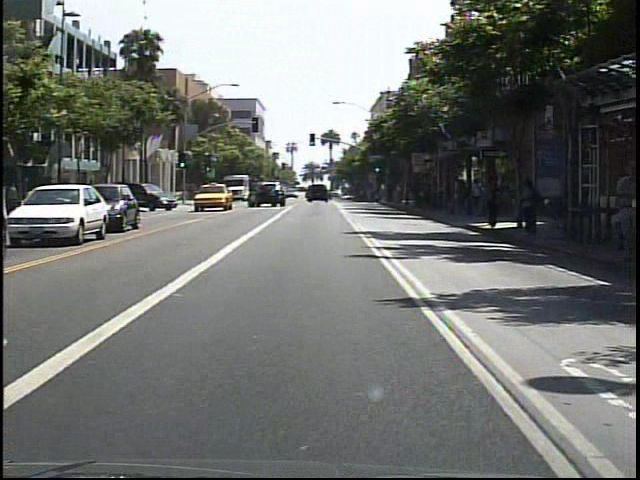person: (488, 164, 512, 233), (520, 176, 544, 242), (473, 176, 489, 217)
